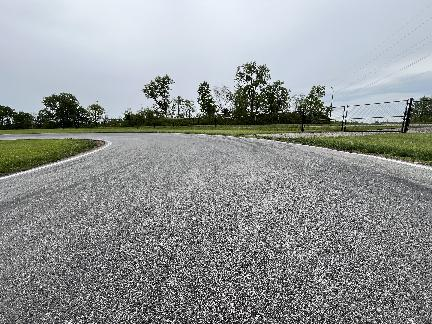Grass: (278, 134, 431, 164), (0, 139, 96, 175), (0, 127, 300, 135)
Lane: (0, 133, 431, 323)
